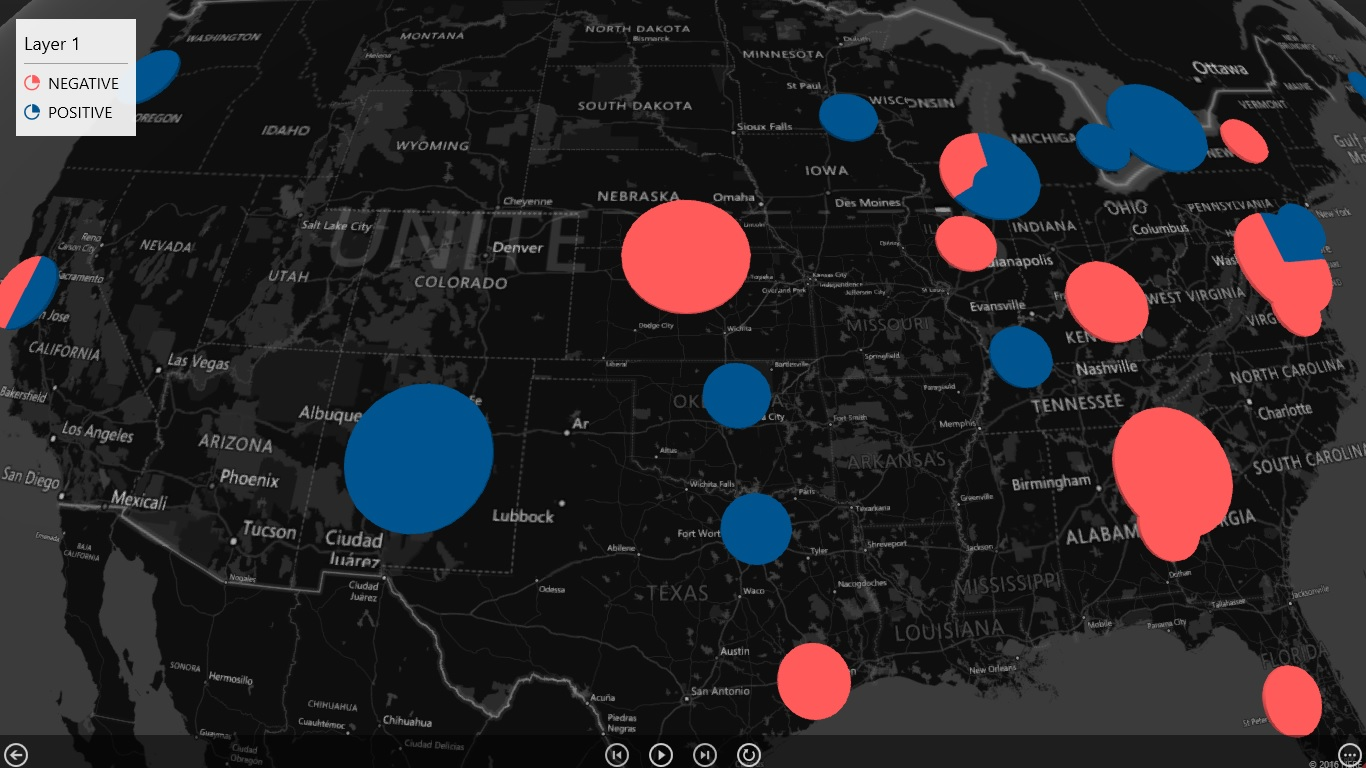

Layout of this report page (visuals, bound fields, positions):
{"tool":"tableau","page":{"name":"Dashboard 1","canvas":[1000,800],"ordinal":0},"visuals":[{"type":"worksheet","title":"Sheet 1","mark":"Circle","box":[0,0,683,400]},{"type":"worksheet","title":"Sheet 2","mark":"Pie","box":[683,0,317,400]},{"type":"worksheet","title":"Sheet 3","mark":"Automatic","box":[0,400,518,400]},{"type":"worksheet","title":"Sheet 4","mark":"Automatic","rows":["fullname","merchant_category_code"],"cols":["total"],"box":[518,400,482,400]}]}

Visuals, with their boxes on the page's 1000x800 design canvas (x1, y1, x2, y2). These are canvas units, not pixel positions in the 1366x768 screenshot, which may show the page scaled, cropped or inside an application window:
"Sheet 1" worksheet (Circle marks): [x1=0, y1=0, x2=683, y2=400]
"Sheet 2" worksheet (Pie marks): [x1=683, y1=0, x2=1000, y2=400]
"Sheet 3" worksheet: [x1=0, y1=400, x2=518, y2=800]
"Sheet 4" worksheet: [x1=518, y1=400, x2=1000, y2=800]
